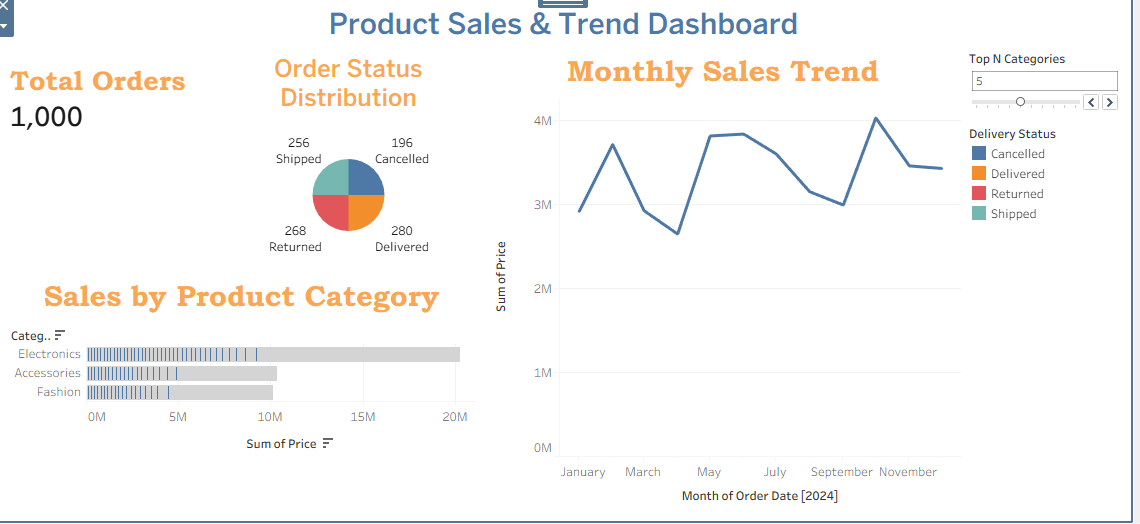

Layout of this report page (visuals, bound fields, positions):
{"tool":"tableau","page":{"name":"Dashboard 2","canvas":[1000,1000],"units":"permille","ordinal":1},"visuals":[{"type":"title","box":[7,15.2,986,81.4]},{"type":"worksheet","title":"Sheet 3 ","mark":"Automatic","box":[7,96.6,187,426.1]},{"type":"worksheet","title":"Sheet 8","mark":"Pie","box":[194,96.6,234,426.1]},{"type":"worksheet","title":"Sheet 1","mark":"Line","rows":["Price"],"cols":["Order_Date"],"box":[428,96.6,424.5,888.3]},{"type":"parameter","param":"[Parameters].[Parameter 1]","box":[852.5,96.6,140.5,142]},{"type":"legend","title":"Sheet 8","param":"[federated.0xcjsfk0z0kvfe10pzn6f1iiynx6].[none:Delivery_Status:nk]","box":[852.5,238.6,140.5,200.8]},{"type":"worksheet","title":"Sheet 5","mark":"Bar","rows":["Category"],"cols":["Price"],"box":[7,522.7,421,462.1]}]}

Visuals, with their boxes on the dashboard's canvas, which has no fixed pixel size, in thousandths of its width and height (x1, y1, x2, y2). These are canvas units, not pixel positions in the 1140x524 screenshot, which may show the page scaled, cropped or inside an application window:
title: box=[7, 15, 993, 97]
"Sheet 3 " worksheet: box=[7, 97, 194, 523]
"Sheet 8" worksheet (Pie marks): box=[194, 97, 428, 523]
"Sheet 1" worksheet (Line marks): box=[428, 97, 852, 985]
parameter: box=[852, 97, 993, 239]
"Sheet 8" legend: box=[852, 239, 993, 439]
"Sheet 5" worksheet (Bar marks): box=[7, 523, 428, 985]
